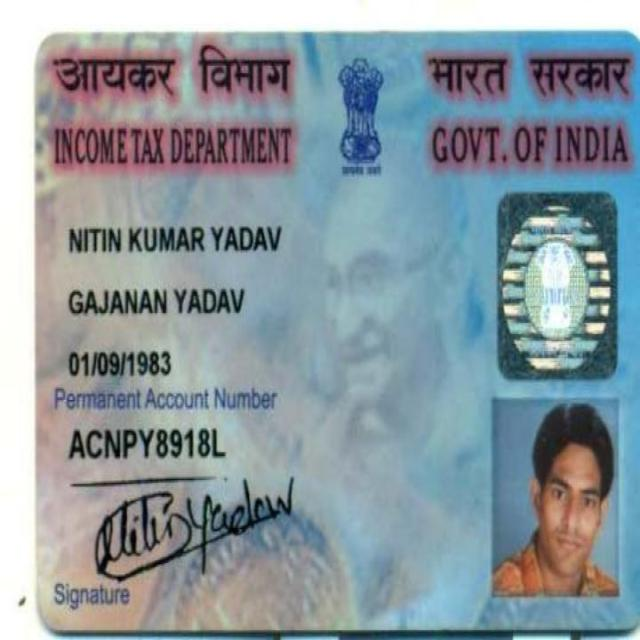pan_card: (38, 34, 636, 627)
